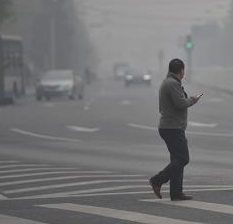person: (148, 56, 204, 201)
